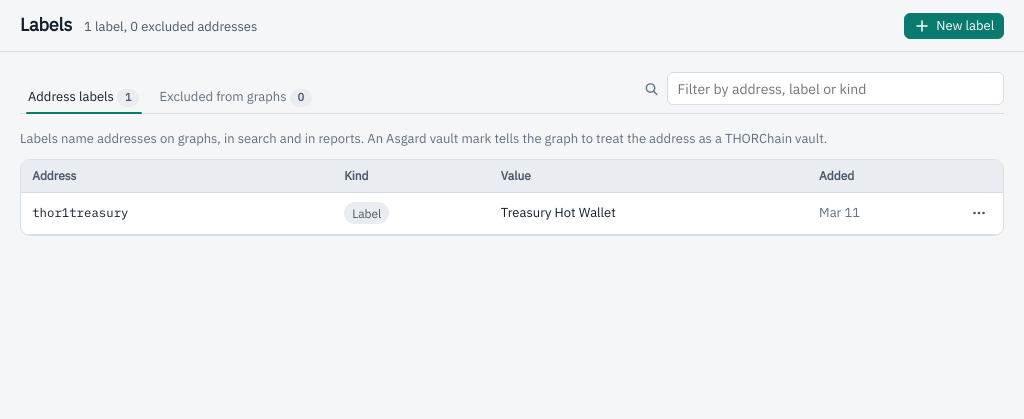
Test: AnnotationsPage › cancels editing and starts the next label from a blank form
The width and height of the screenshot is (1024, 419).
Expected: the text "Treasury Hot Wallet" is shown, [490, 192, 808, 234]
Click the button named "Actions for Treasury Hot Wallet".
click(979, 213)  # box [966, 200, 992, 226]
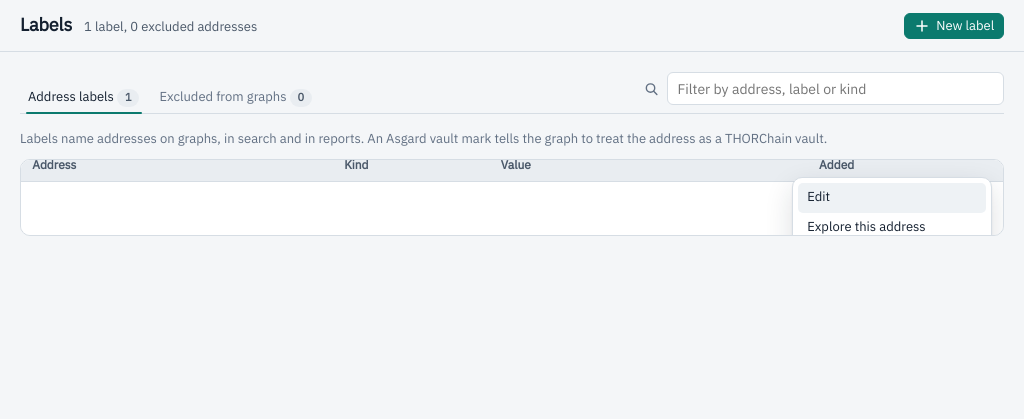
Click the menu item "Edit".
click(892, 198)  # box [798, 183, 986, 213]
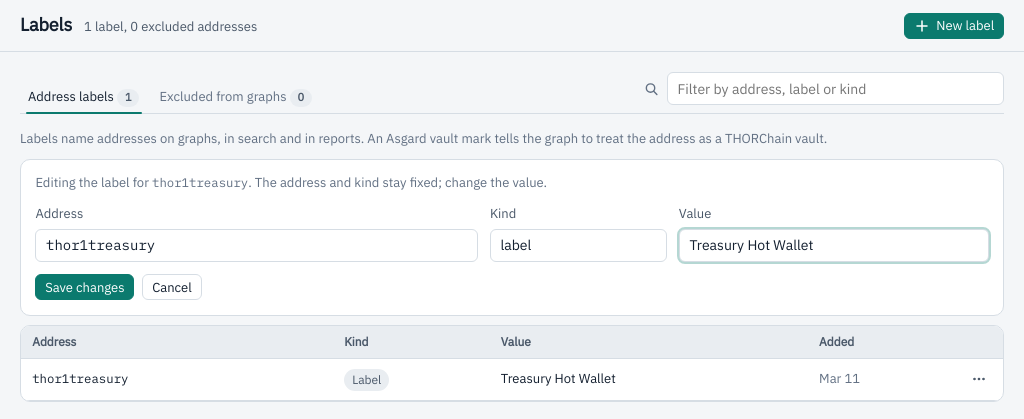
Click the button "Cancel".
click(172, 287)  # box [142, 274, 202, 300]
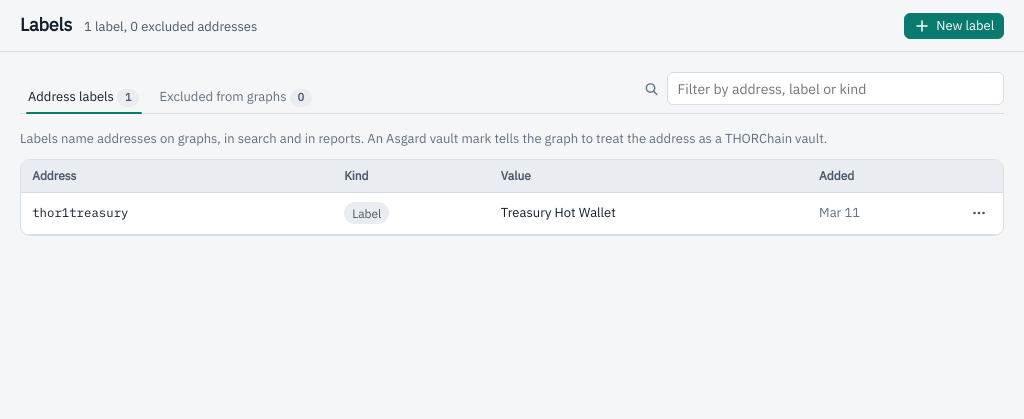
Result: the button "Save changes" is gone
Click the button "New label".
click(954, 26)  # box [904, 12, 1004, 38]
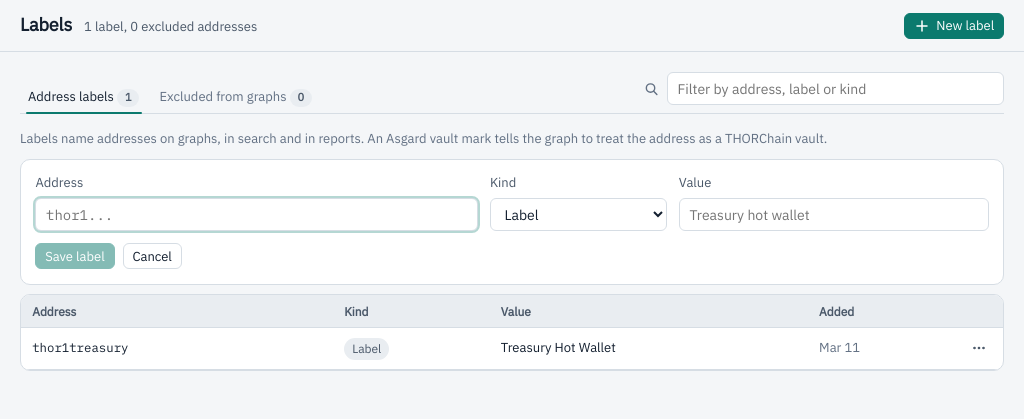
Result: the field with placeholder "thor1..." is empty at [35, 198, 478, 232]
Result: the dropdown named "Kind" shows "Label" at [490, 198, 667, 231]
Result: the field with placeholder "Treasury hot wallet" is empty at [679, 198, 989, 232]
